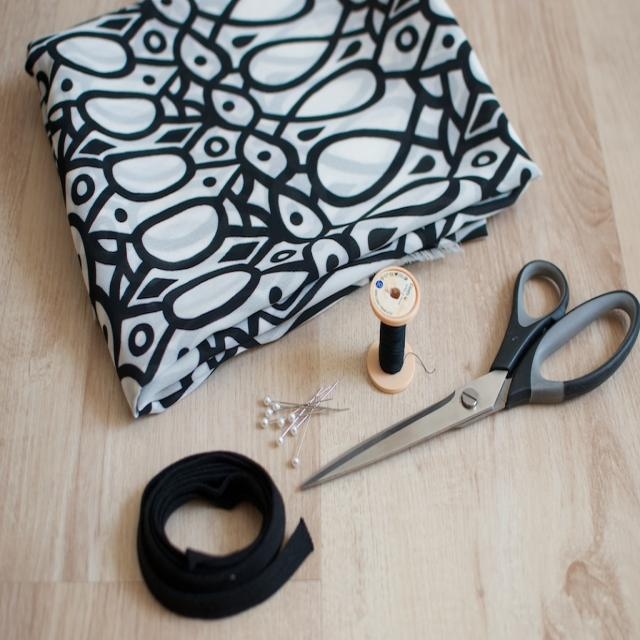scissors: (300, 258, 639, 491)
